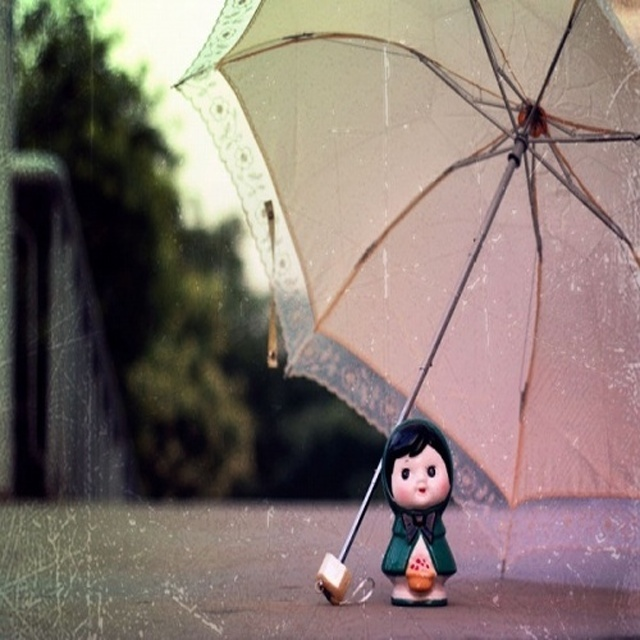umbrella: (170, 1, 640, 608)
